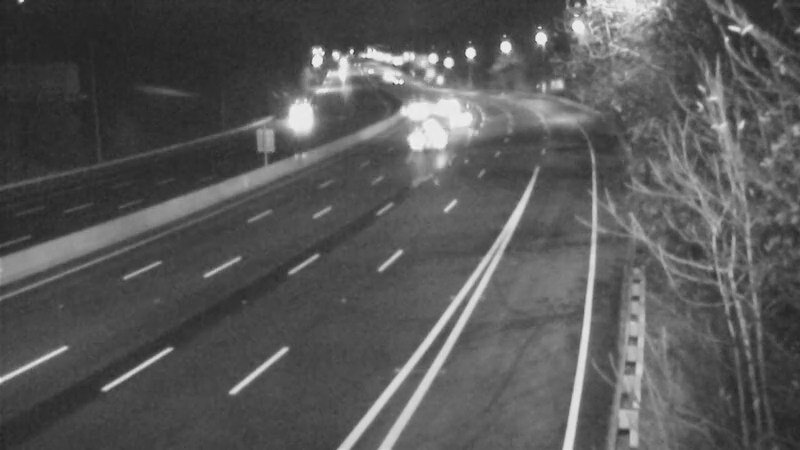vehicle: (370, 55, 420, 105), (421, 77, 471, 127), (384, 85, 434, 135), (437, 86, 487, 136), (406, 116, 456, 166), (274, 93, 324, 143)
